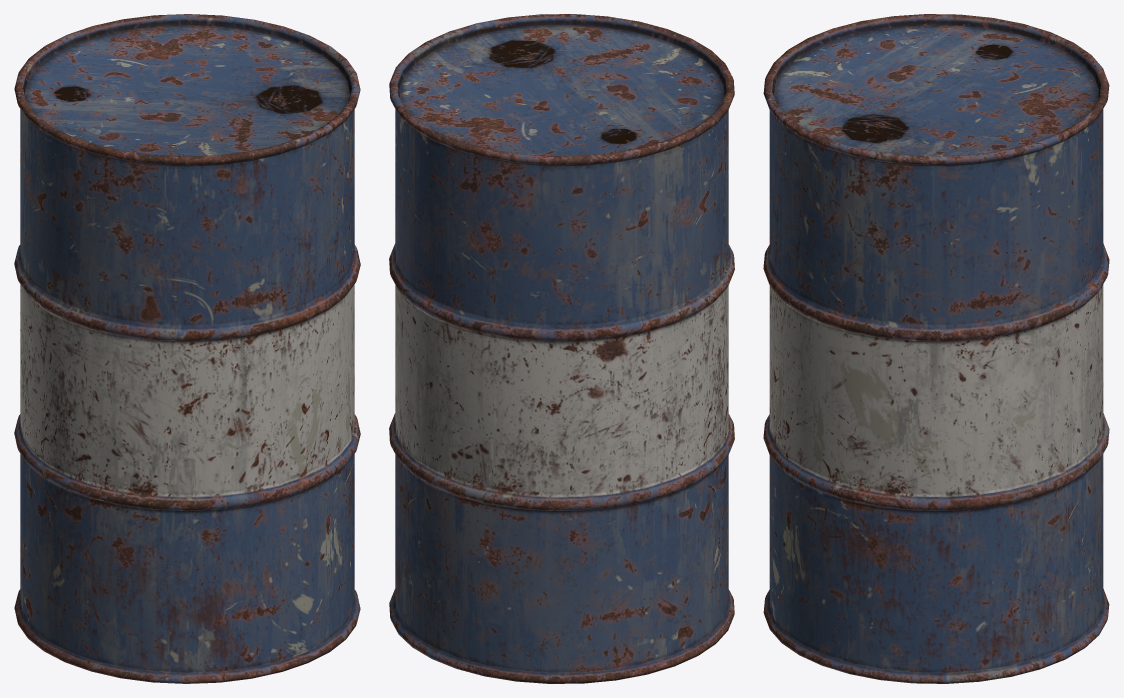
Rendered from Barrel_7.glb.
3 views of the same model, side by side, from view 1: azimuth 30°, elevation 25°; view 2: azimuth 150°, elevation 25°; view 3: azimuth 270°, elevation 25° (orthographic).
Visible parts, largest first — view 1: Barrel2_low_Metal2_0; view 2: Barrel2_low_Metal2_0; view 3: Barrel2_low_Metal2_0.
Boxes of the visible parts, x1,y1,x2,y2 form: Barrel2_low_Metal2_0: [14, 14, 360, 683]; Barrel2_low_Metal2_0: [389, 14, 734, 683]; Barrel2_low_Metal2_0: [763, 14, 1109, 683].
Size of the model in its own units: 0.4113 by 0.6896 by 0.4113.
Materials: 1 (1 with a texture image).
